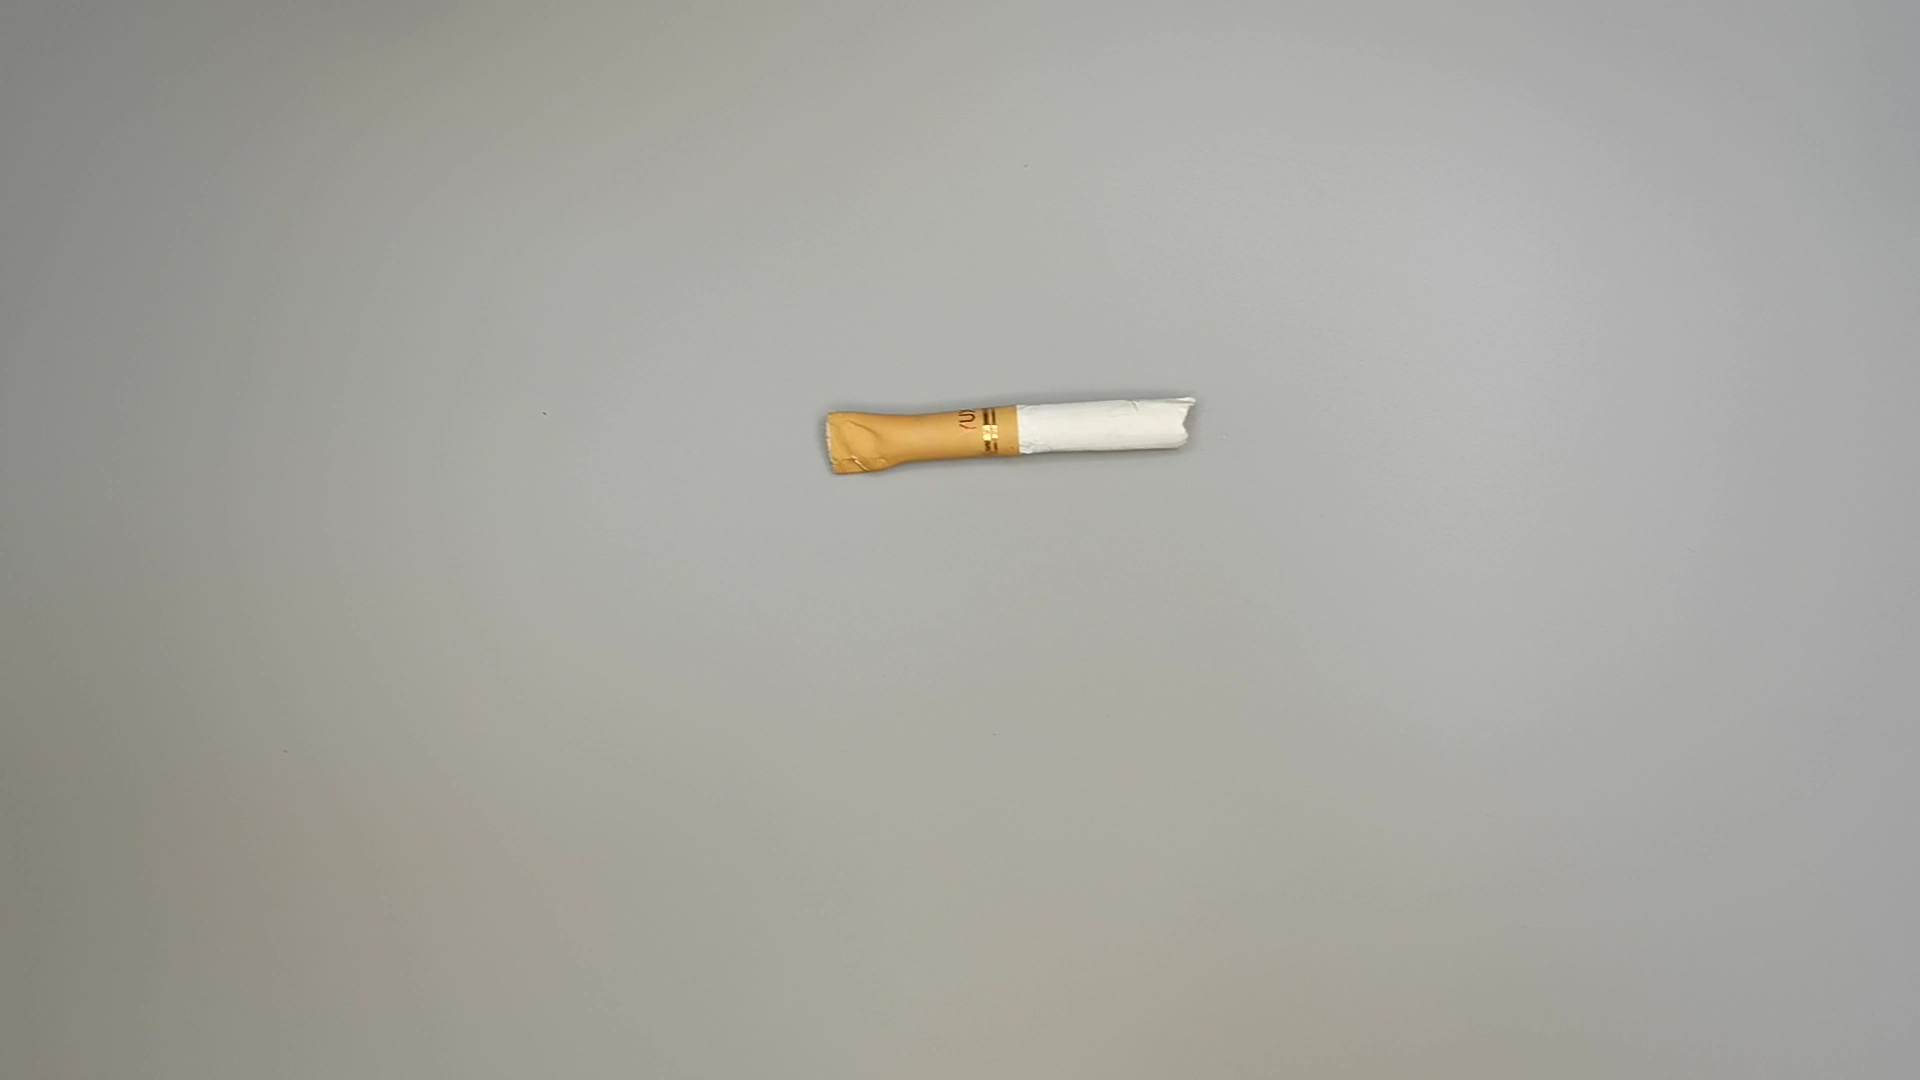cigarette: (814, 382, 1204, 485)
